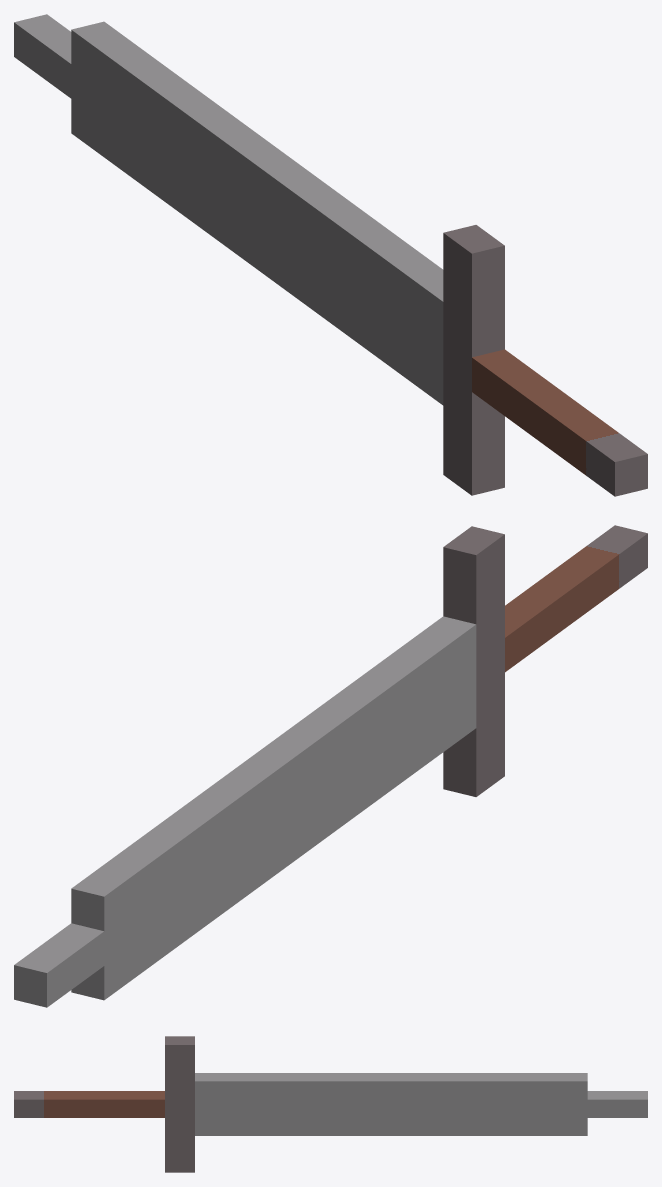
File: Sword.fbx
The picture shows the model from 3 angles, top to bottom: view 1: azimuth 30°, elevation 25°; view 2: azimuth 150°, elevation 25°; view 3: azimuth 270°, elevation 25°; orthographic projection. The views are drawn at different scales.
Parts seen in each view (by area): view 1: Sword; view 2: Sword; view 3: Sword.
Boxes of the visible parts, x1,y1,x2,y2 form: Sword: (14, 14, 647, 496); Sword: (14, 525, 647, 1007); Sword: (14, 1036, 647, 1172).
Bounding box in the file's own units: 0.1468 × 1.03 × 4.62.
Materials: 1 (1 with a texture image).
